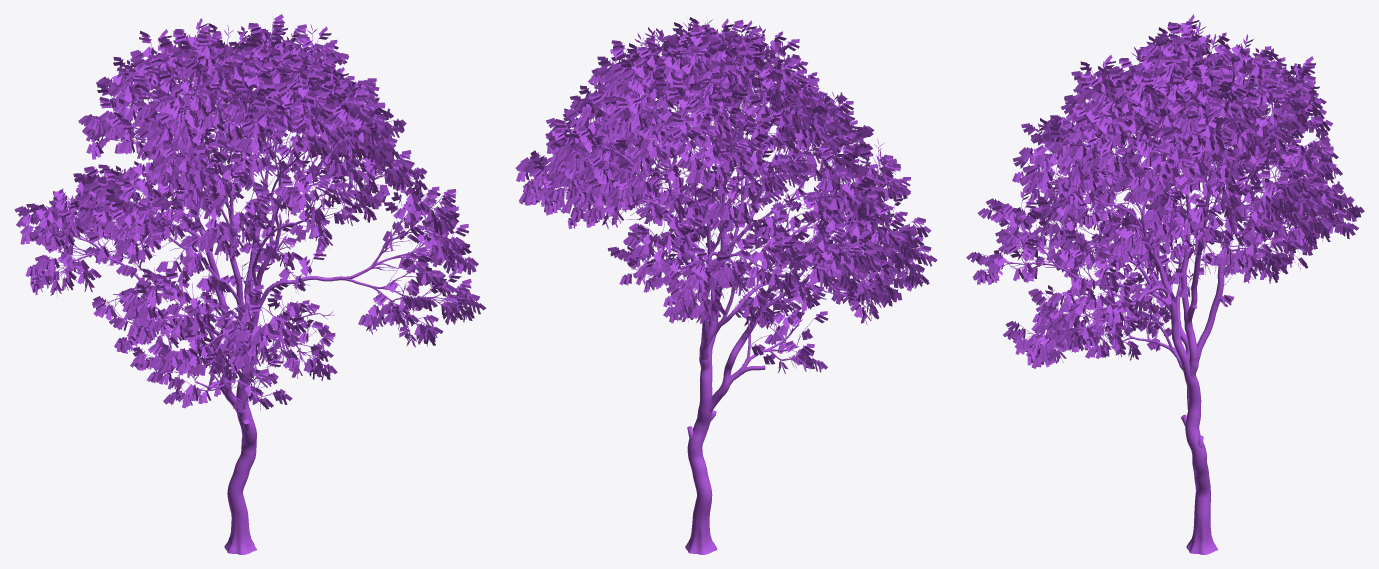
File: Tree1.fbx
3 views of the same model, side by side, from view 1: azimuth 30°, elevation 25°; view 2: azimuth 150°, elevation 25°; view 3: azimuth 270°, elevation 25° (orthographic). The views are drawn at different scales.
Visible parts, largest first — view 1: AB_Eucalypt_03; view 2: AB_Eucalypt_03; view 3: AB_Eucalypt_03.
Boxes of the visible parts, <box> form: AB_Eucalypt_03: <box>14,14,486,554</box>; AB_Eucalypt_03: <box>515,17,937,554</box>; AB_Eucalypt_03: <box>966,14,1364,554</box>.
Bounding box in the file's own units: 380 × 501 × 352.
